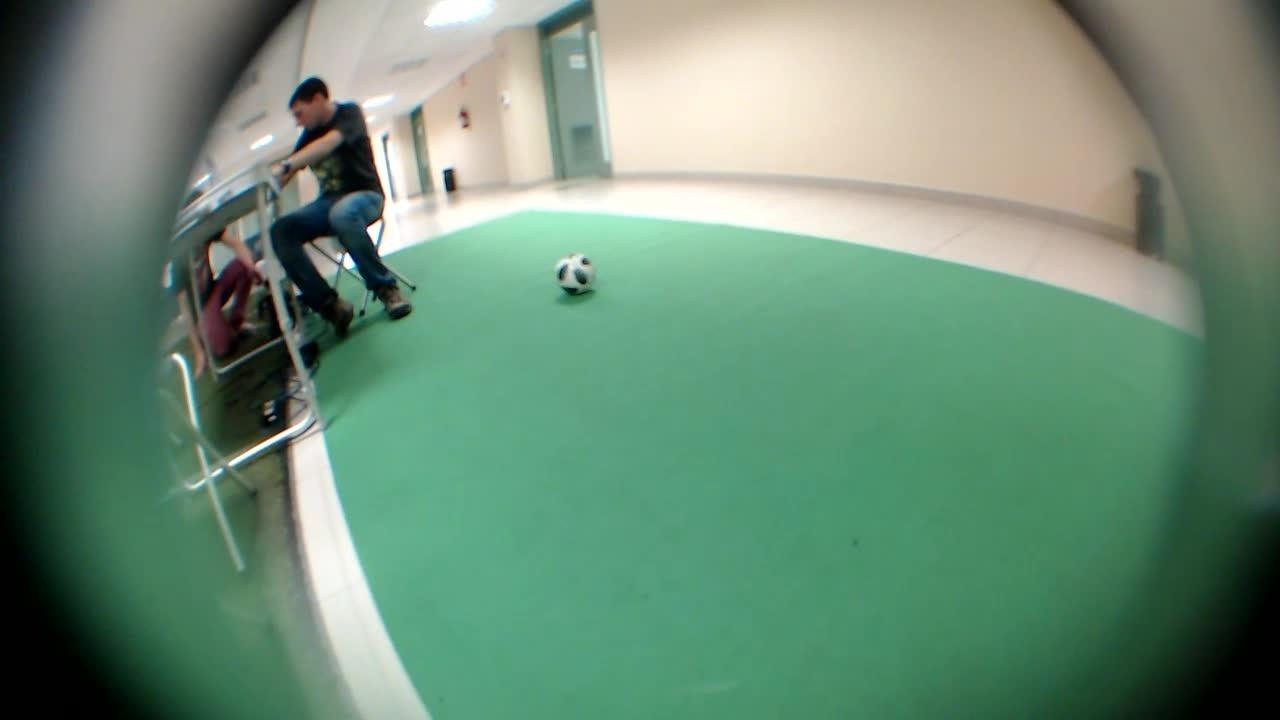ball: (547, 245, 605, 302)
